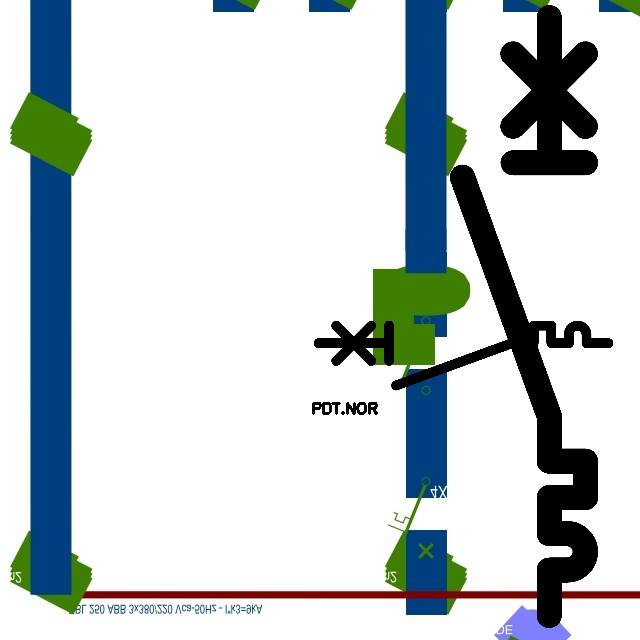interruptor_termomagnetico: (447, 2, 601, 631), (311, 318, 616, 392)
